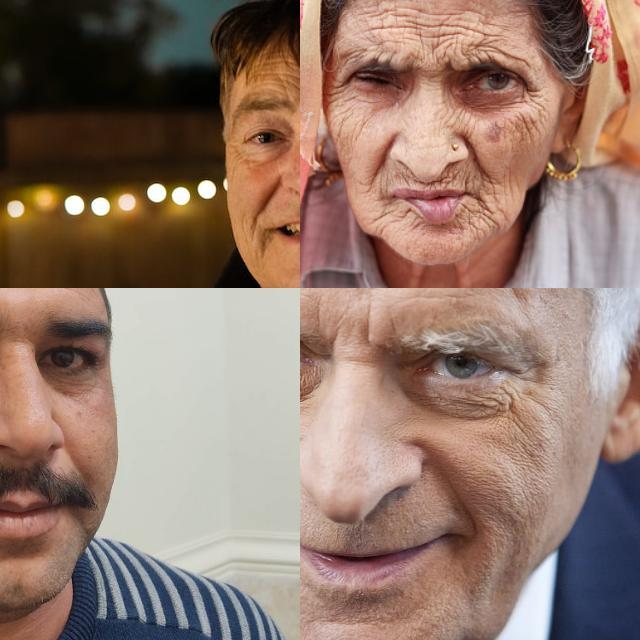bunny_line: (441, 108, 471, 134)
chin: (464, 218, 494, 242), (404, 208, 422, 232)
crows_feet: (502, 358, 534, 404), (524, 83, 546, 113), (330, 78, 352, 100), (228, 146, 248, 170)
forehead: (419, 12, 459, 44), (374, 1, 416, 31), (261, 61, 300, 92), (467, 24, 505, 52)
frown_line: (412, 48, 450, 72), (359, 306, 378, 348), (312, 298, 326, 326)
gummy_smile: (454, 488, 484, 536), (253, 180, 283, 222), (467, 140, 488, 178), (372, 142, 390, 182)
masseter: (512, 118, 548, 146), (335, 118, 353, 150)
sad_smile: (372, 203, 398, 223), (258, 229, 274, 255), (470, 192, 488, 212)
smoker_lines: (396, 168, 418, 188), (440, 168, 458, 188)
